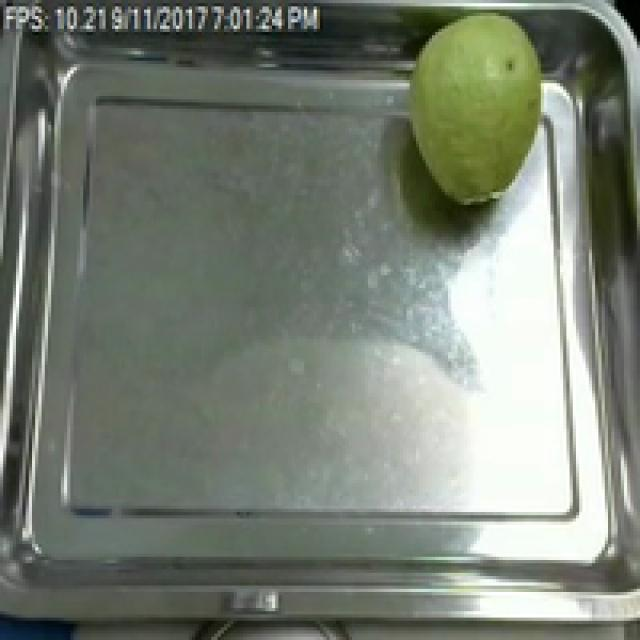Fruit: (393, 6, 572, 218)
